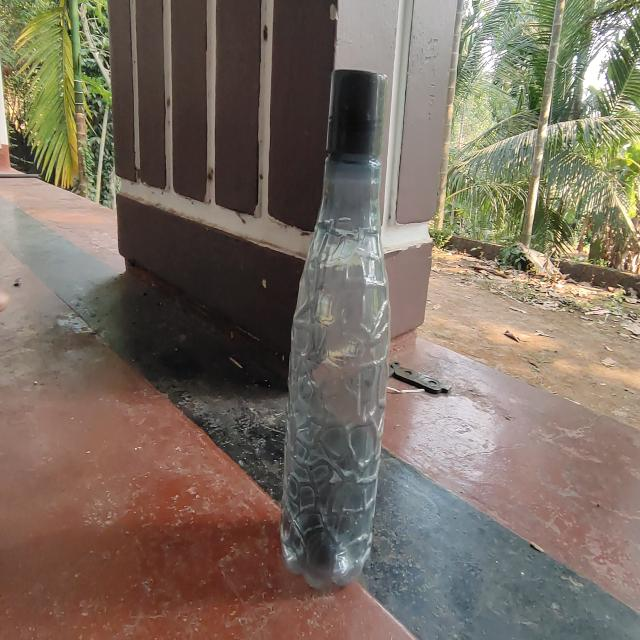plastic: (278, 63, 398, 593)
